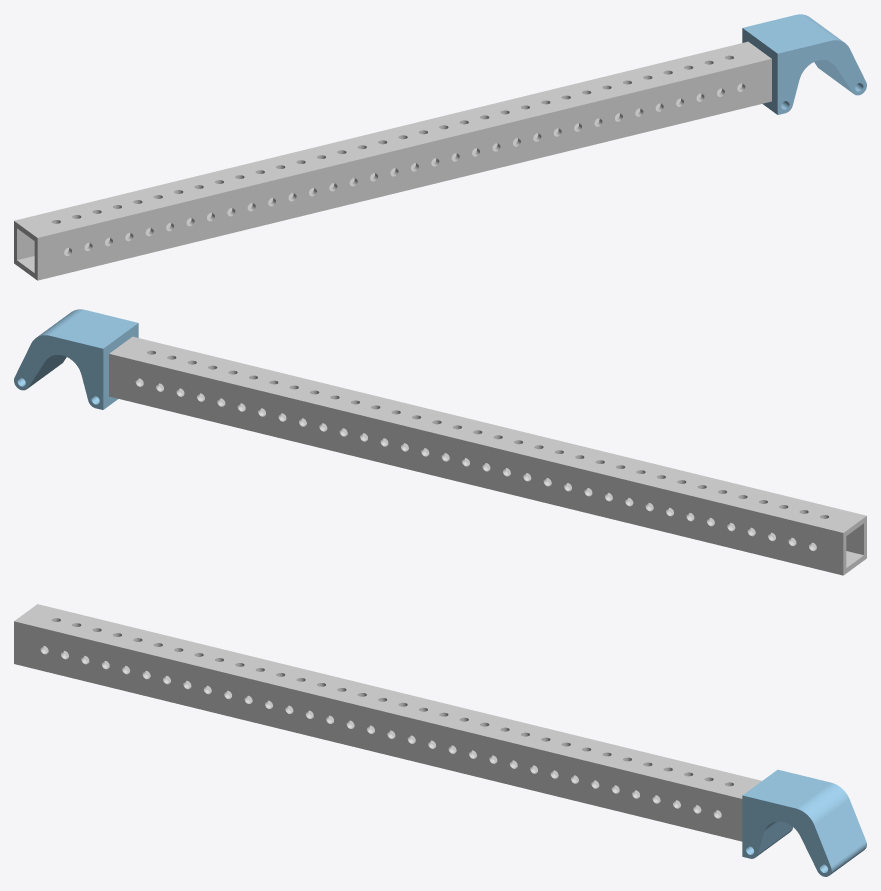
The picture shows the model from 3 angles, top to bottom: view 1: azimuth 30°, elevation 25°; view 2: azimuth 150°, elevation 25°; view 3: azimuth 330°, elevation 25°; orthographic projection.
Parts seen in each view (by area): view 1: Tube 1"x1"x18", Hook Crush Block; view 2: Tube 1"x1"x18", Hook Crush Block; view 3: Tube 1"x1"x18", Hook Crush Block.
Part boxes in pixels (x1,y1,x2,y2): Tube 1"x1"x18": (14, 41, 771, 280); Hook Crush Block: (742, 14, 866, 114); Tube 1"x1"x18": (109, 336, 866, 575); Hook Crush Block: (14, 309, 138, 409); Tube 1"x1"x18": (14, 604, 761, 841); Hook Crush Block: (742, 769, 866, 876).
Size of the model in its own units: 0.5128 by 0.0365 by 0.0381.
